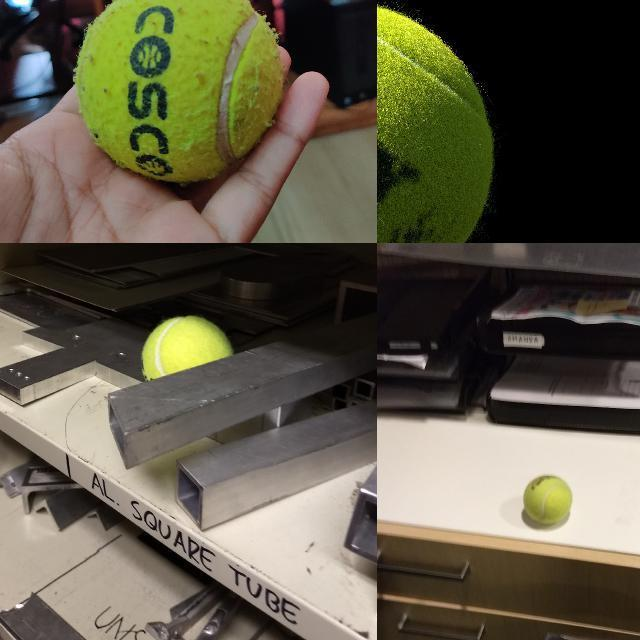tennis-ball: (75, 0, 281, 182), (377, 1, 493, 242), (140, 313, 233, 353), (522, 475, 572, 524)
